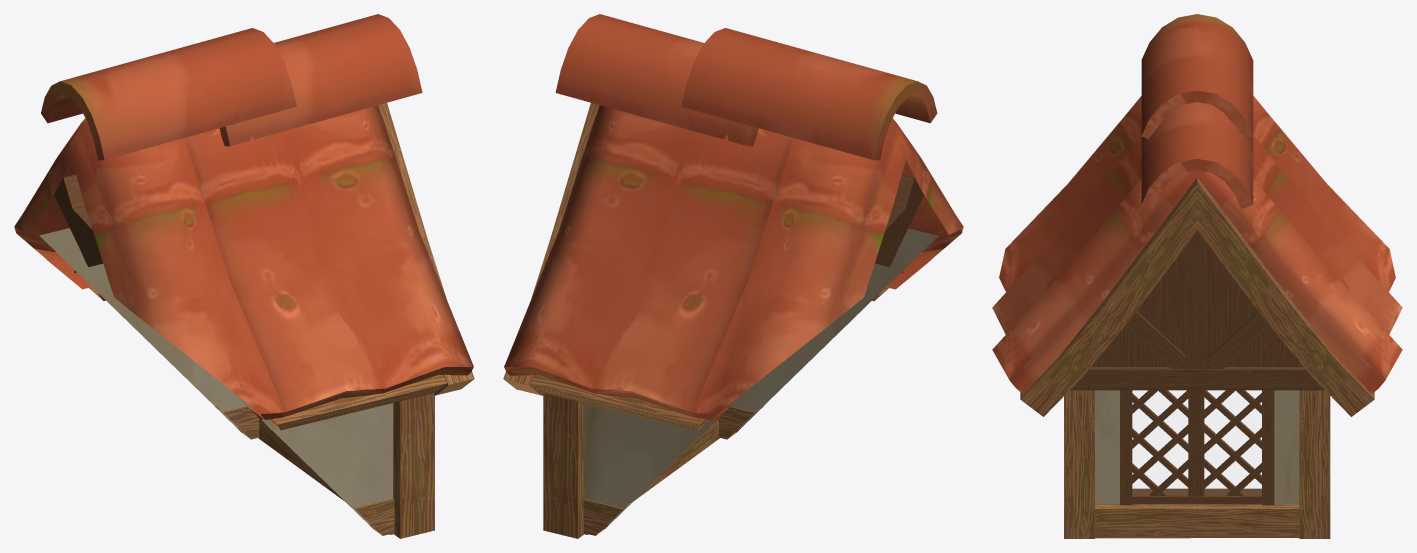
File: roof_dormer_roundtile.glb
3 views of the same model, side by side, from view 1: azimuth 30°, elevation 25°; view 2: azimuth 150°, elevation 25°; view 3: azimuth 270°, elevation 25° (orthographic). The views are drawn at different scales.
Size of the model in its own units: 1.97 by 2.67 by 2.44.
Materials: 4 (3 with a texture image).
